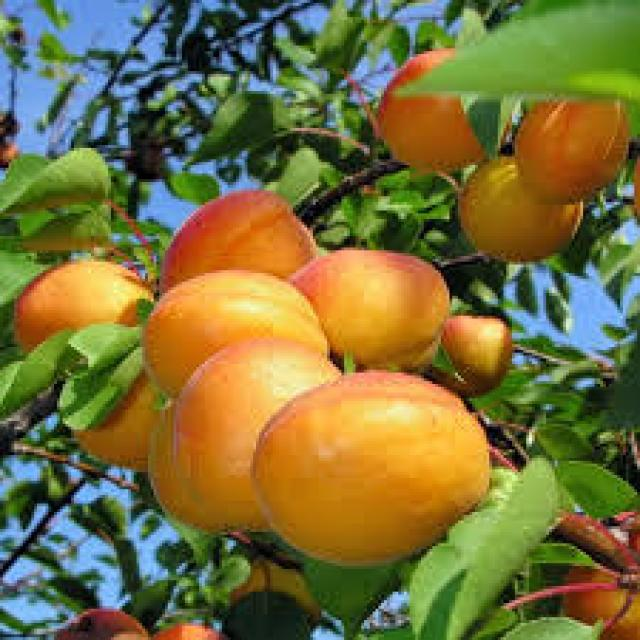kayisi: (254, 361, 498, 570), (175, 336, 352, 507), (133, 268, 334, 386), (288, 246, 454, 373), (156, 186, 328, 298), (458, 148, 592, 274), (372, 48, 497, 173), (10, 255, 154, 358), (512, 86, 632, 200)
yaprak: (411, 454, 570, 640), (389, 2, 640, 119), (56, 330, 152, 436), (174, 81, 290, 167), (0, 145, 117, 222), (0, 318, 76, 422), (0, 192, 120, 253), (52, 316, 142, 372), (308, 8, 372, 77)
